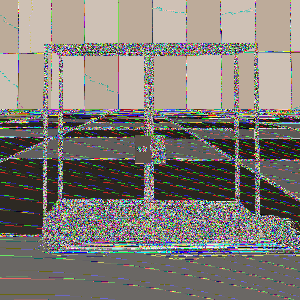Rack: (42, 39, 260, 246)
